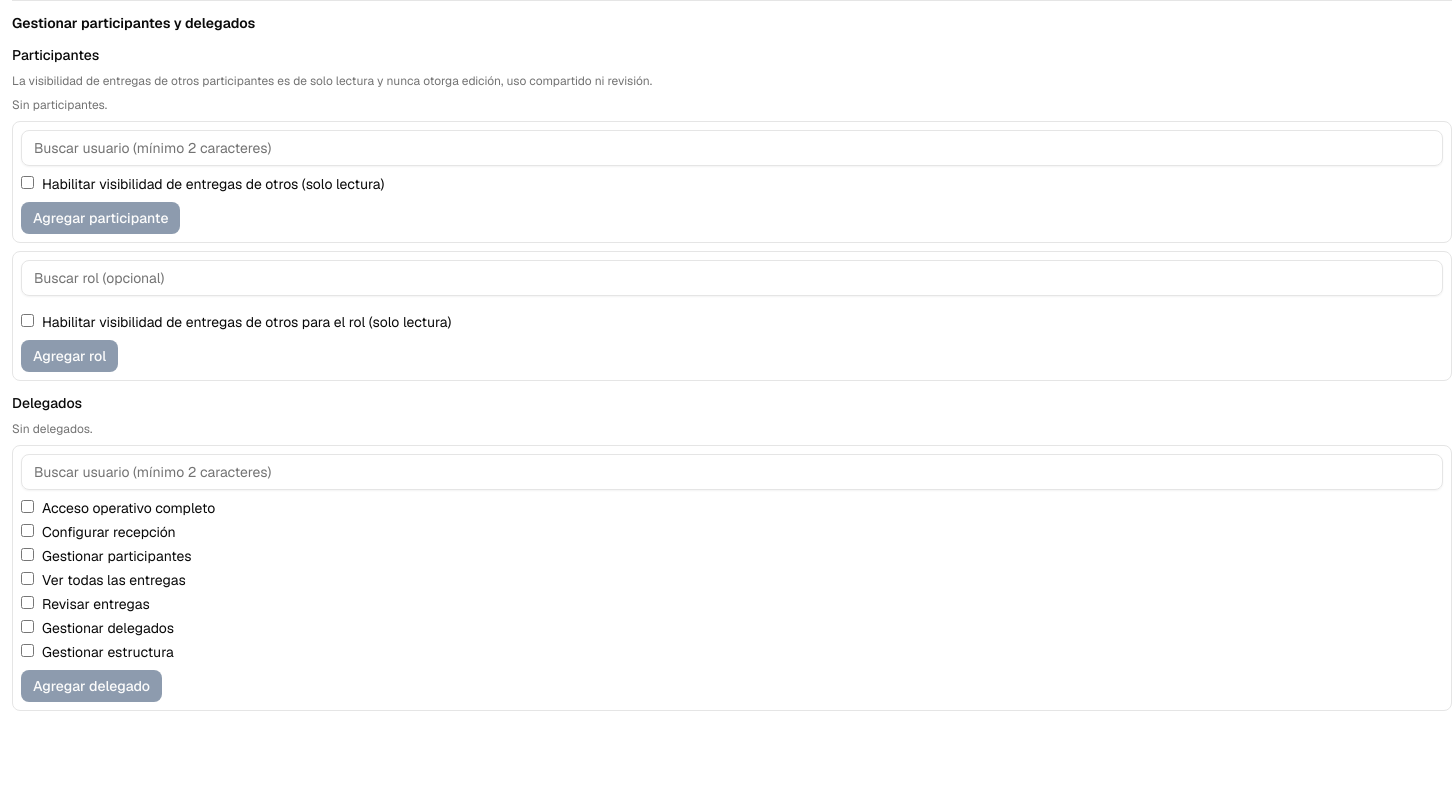
Test case: does not confirm a delegate response whose full flag differs from the request
Type "an" into the field named "Buscar usuario para delegado" at (732, 472), box [21,454,1443,490]
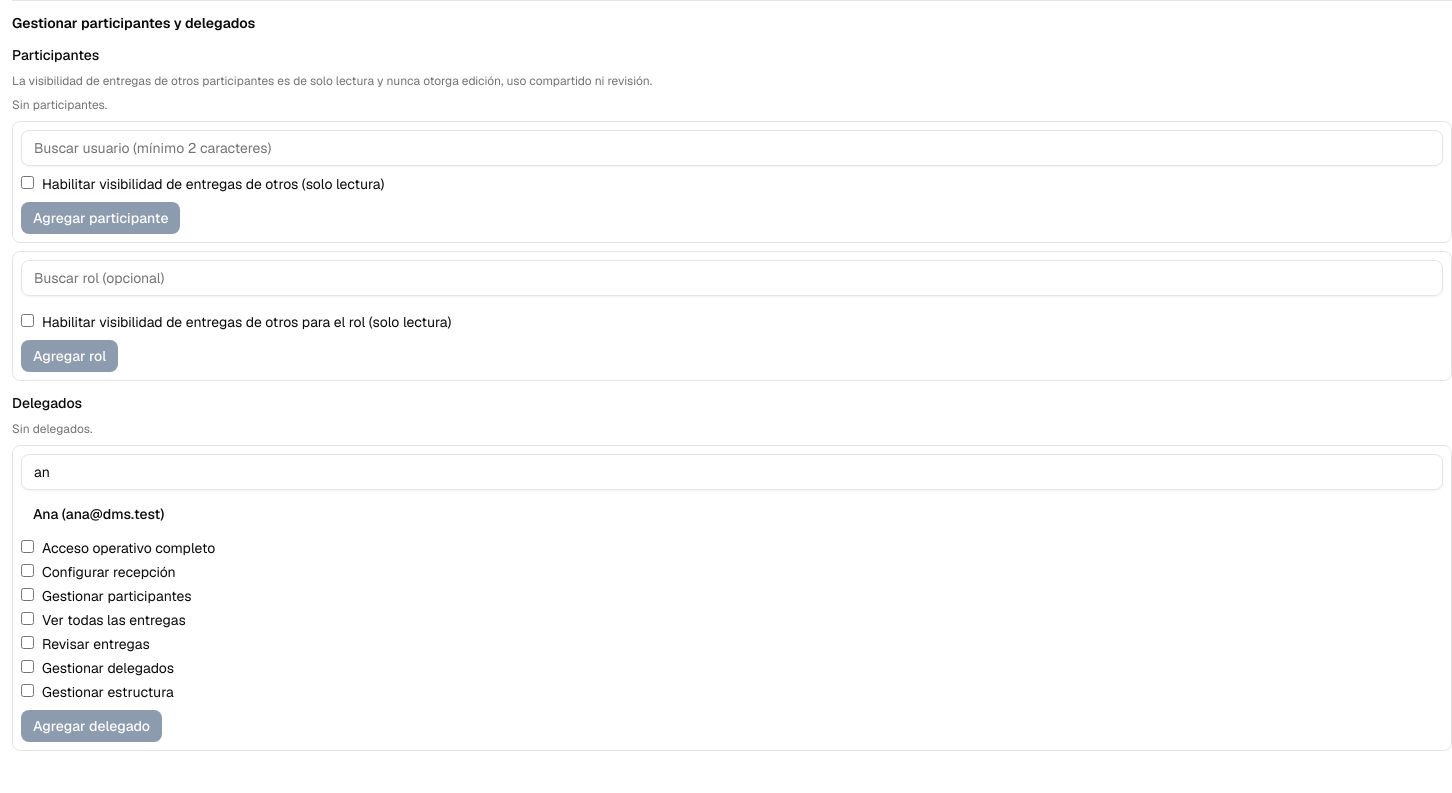
Click the button "Ana (ana@dms.test)" at (99, 514), box [21,498,176,530]
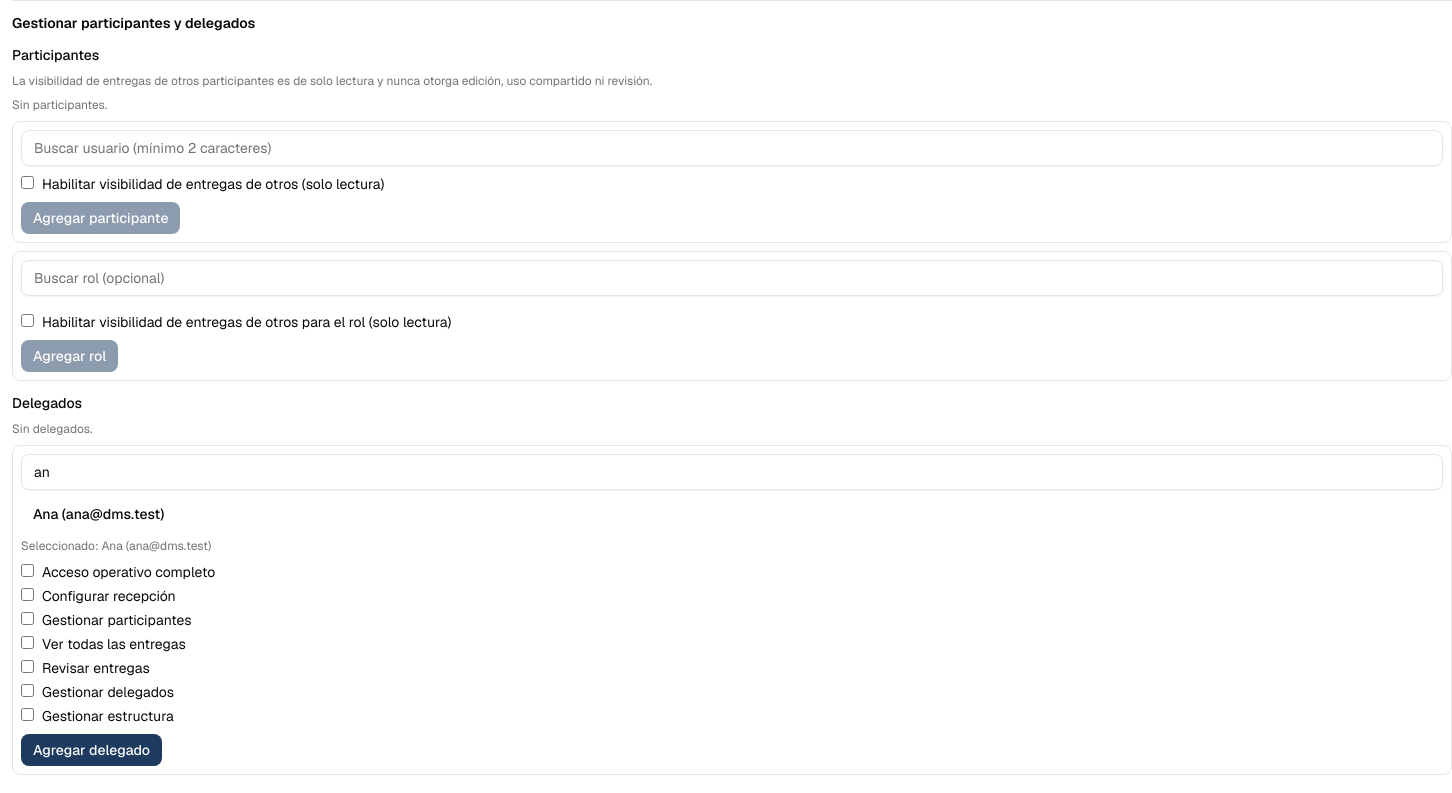
Click the button "Agregar delegado" at (92, 750), box [21,734,162,766]
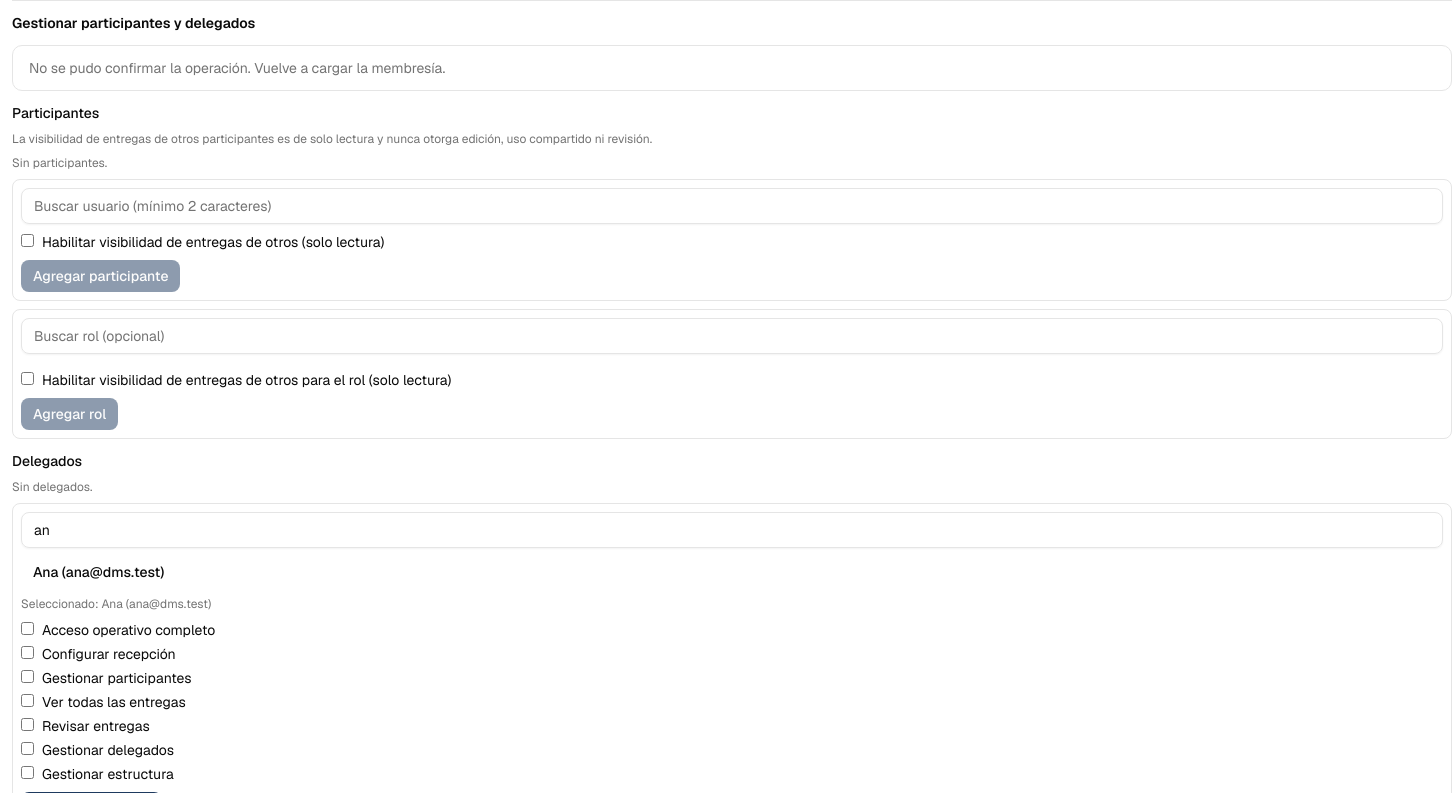
Expected: the text "Seleccionado: Ana (ana@dms.test)" is shown, [21,596,211,612]
Expected: the text "No se pudo confirmar la operación" is shown, [29,59,445,77]
